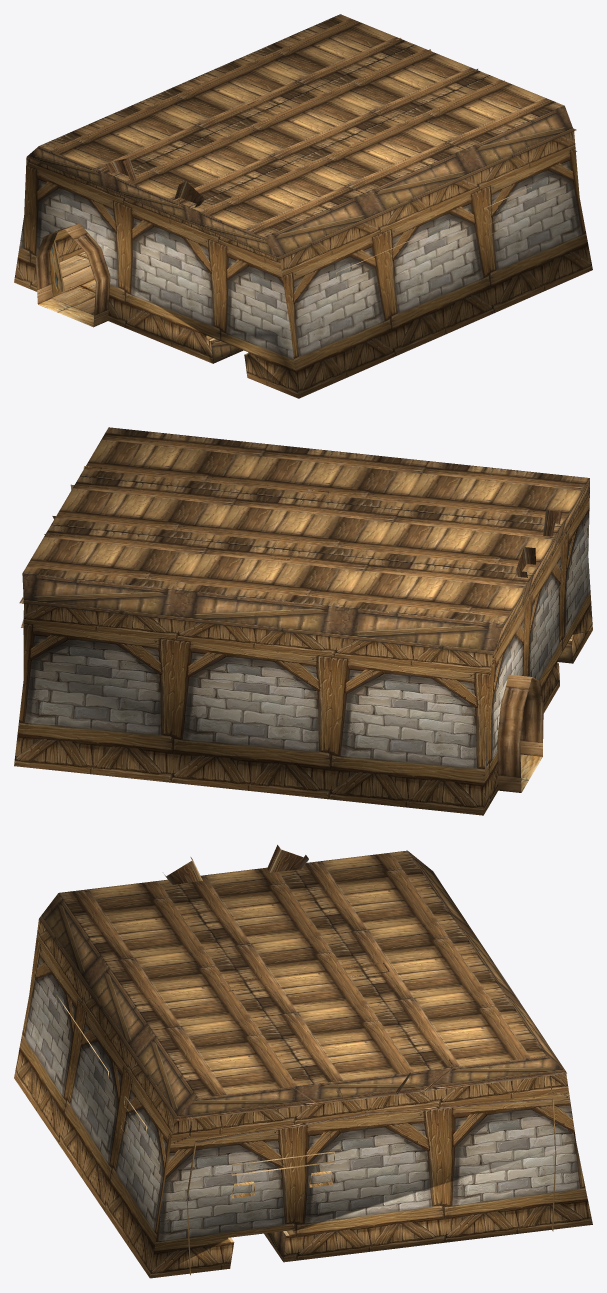
Rendered from stormwind_201.fbx.
3 views of the same model, one above another, from view 1: azimuth 30°, elevation 25°; view 2: azimuth 150°, elevation 25°; view 3: azimuth 270°, elevation 25° (orthographic). The views are drawn at different scales.
Parts seen in each view (by area): view 1: stormwind_201_87, stormwind_201_55, stormwind_201_56, stormwind_201_49, stormwind_201_53, stormwind_201_51; view 2: stormwind_201_87, stormwind_201_55, stormwind_201_56, stormwind_201_49, stormwind_201_53; view 3: stormwind_201_87, stormwind_201_55, stormwind_201_56, stormwind_201_53, stormwind_201_54.
Part boxes in pixels (box(x1,y1,x2,y2)): stormwind_201_87: box(14, 131, 592, 398); stormwind_201_55: box(39, 14, 564, 237); stormwind_201_56: box(27, 106, 573, 363); stormwind_201_49: box(35, 223, 110, 326); stormwind_201_53: box(38, 37, 576, 327); stormwind_201_51: box(52, 252, 95, 314); stormwind_201_87: box(14, 490, 592, 815); stormwind_201_55: box(22, 427, 589, 624); stormwind_201_56: box(22, 478, 589, 663); stormwind_201_49: box(497, 674, 543, 792); stormwind_201_53: box(19, 466, 582, 792); stormwind_201_87: box(14, 919, 592, 1278); stormwind_201_55: box(59, 850, 546, 1098); stormwind_201_56: box(39, 851, 565, 1261); stormwind_201_53: box(54, 845, 568, 1275); stormwind_201_54: box(55, 994, 334, 1242).
Size of the model in its own units: 19.75 by 7.13 by 18.79.
